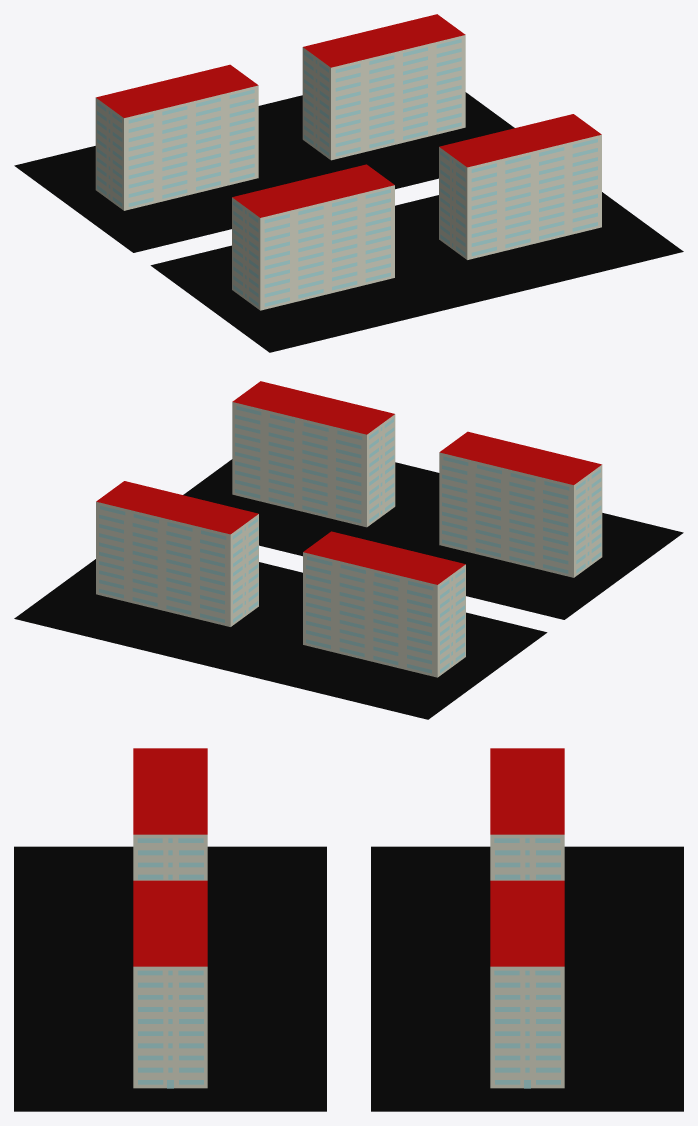
3 renders of one model, top to bottom at view 1: azimuth 30°, elevation 25°; view 2: azimuth 150°, elevation 25°; view 3: azimuth 270°, elevation 25°, orthographic. The views are drawn at different scales.
Parts seen in each view (by area): view 1: Walls, Ground, Windows, Roofs; view 2: Walls, Ground, Windows, Roofs; view 3: Ground, Roofs, Walls, Windows.
Boxes of the visible parts, x1=… form: Walls: x1=95, y1=35, x2=601, y2=310; Ground: x1=14, y1=92, x2=683, y2=352; Windows: x1=97, y1=39, x2=597, y2=306; Roofs: x1=96, y1=14, x2=601, y2=217; Walls: x1=96, y1=402, x2=602, y2=677; Ground: x1=14, y1=459, x2=683, y2=719; Windows: x1=99, y1=406, x2=601, y2=673; Roofs: x1=96, y1=381, x2=601, y2=584; Ground: x1=14, y1=846, x2=683, y2=1111; Roofs: x1=133, y1=748, x2=564, y2=966; Walls: x1=133, y1=834, x2=564, y2=1088; Windows: x1=137, y1=838, x2=560, y2=1088.
Size of the model in its own units: 142 by 30.48 by 152.
